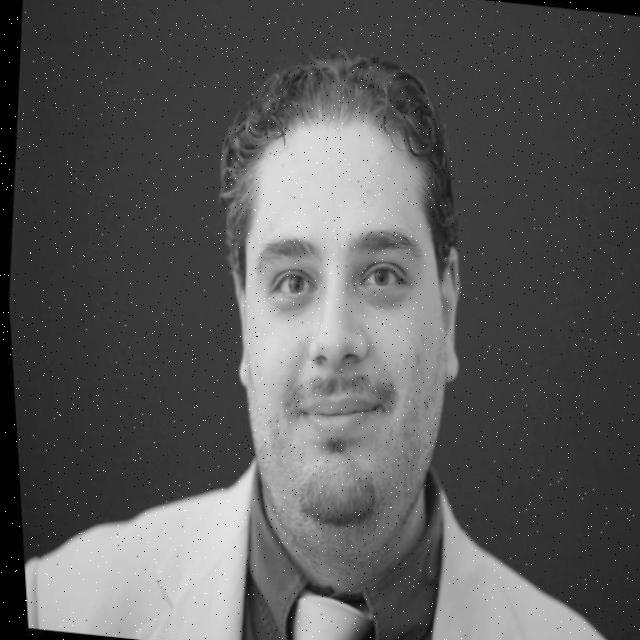puffy_eyes: (263, 289, 313, 319), (355, 284, 405, 310)
